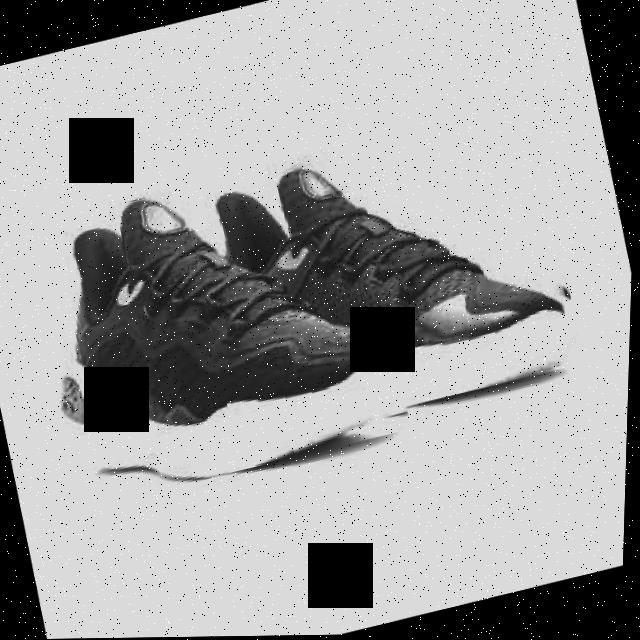shoe: (18, 141, 438, 510), (179, 107, 595, 449)
